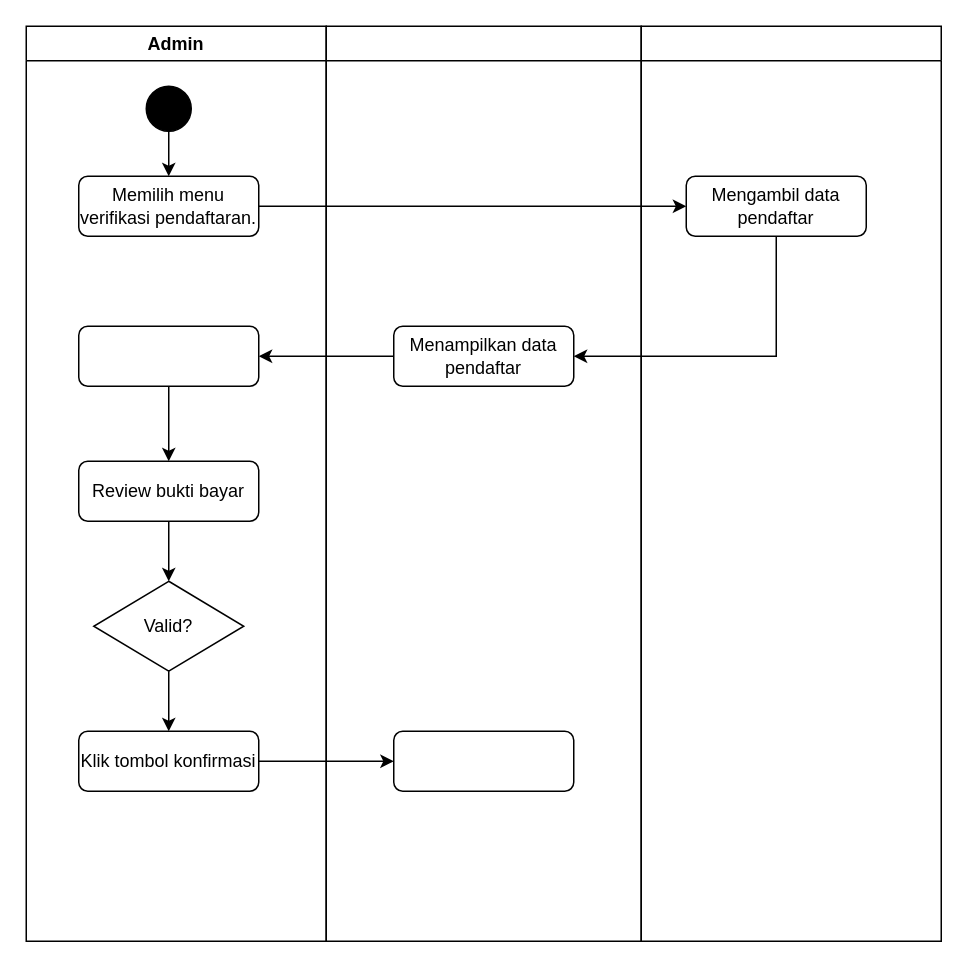
Some shapes in this 968 by 968 pixel diagram are drawn without their labels. The box of each missing label's shape, as (x1, y1, x2, y2) in pixels:
Database: (640, 25, 941, 941)
Menampilkan halaman konfirmasi: (392, 730, 574, 791)
Pilih calon pelajar: (77, 325, 259, 386)
System: (325, 25, 641, 941)
